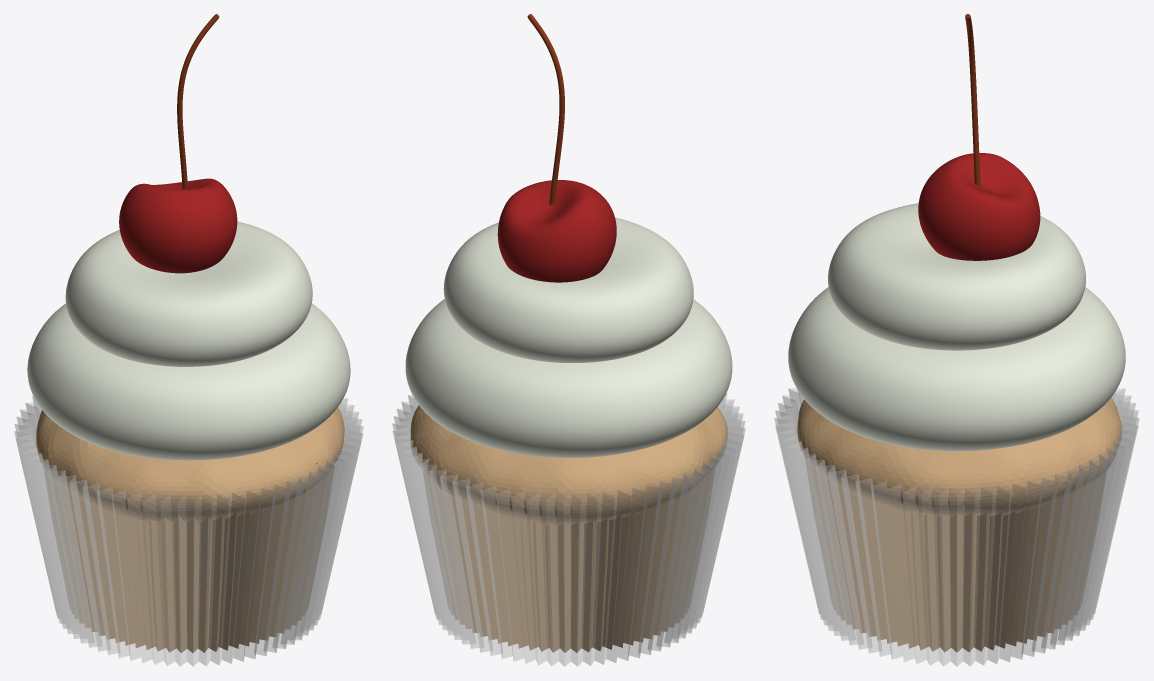
Rendered from cup_cake.glb.
3 renders of one model, left to right at view 1: azimuth 30°, elevation 25°; view 2: azimuth 150°, elevation 25°; view 3: azimuth 270°, elevation 25°, orthographic. The views are drawn at different scales.
Visible parts, largest first — view 1: Circle, Circle.001, Sphere, Sphere.001, Icosphere, cherry, branch; view 2: Circle, Circle.001, Sphere, Sphere.001, Icosphere, cherry, branch; view 3: Circle, Circle.001, Sphere, Sphere.001, Icosphere, cherry, branch.
Boxes of the visible parts, x1,y1,x2,y2 form: Circle: (14,396,363,666); Circle.001: (45,457,334,652); Sphere: (27,303,350,460); Sphere.001: (65,221,312,366); Icosphere: (36,407,344,522); cherry: (119,178,237,273); branch: (177,14,219,189); Circle: (392,393,745,666); Circle.001: (423,468,714,652); Sphere: (405,299,732,457); Sphere.001: (443,217,693,362); Icosphere: (410,405,727,525); cherry: (497,180,616,282); branch: (527,14,564,204); Circle: (774,388,1139,666); Circle.001: (799,412,1105,652); Sphere: (788,287,1125,451); Sphere.001: (828,203,1085,350); Icosphere: (797,397,1121,516); cherry: (918,153,1040,260); branch: (965,14,980,186).
Size of the model in its own units: 6.94 by 12.8 by 6.94.
